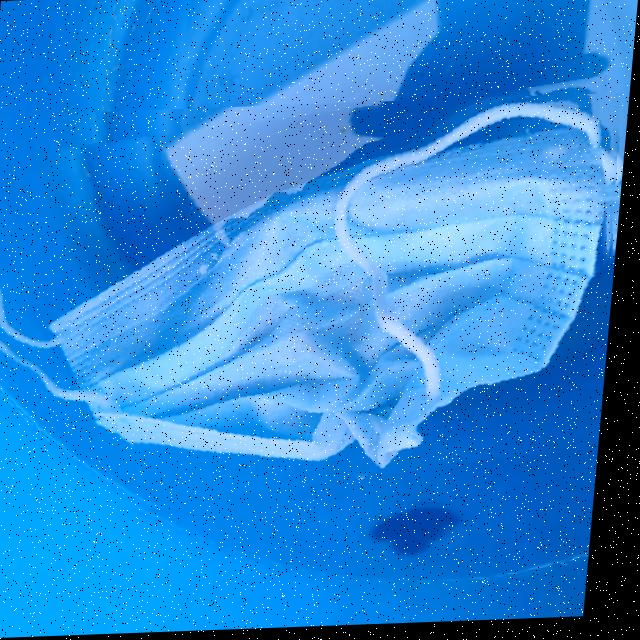mask: (0, 96, 632, 525)
